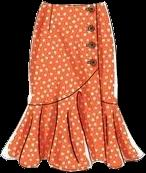Hemline: (0, 153, 145, 171)
Waistline: (27, 70, 117, 106), (42, 0, 104, 5)
